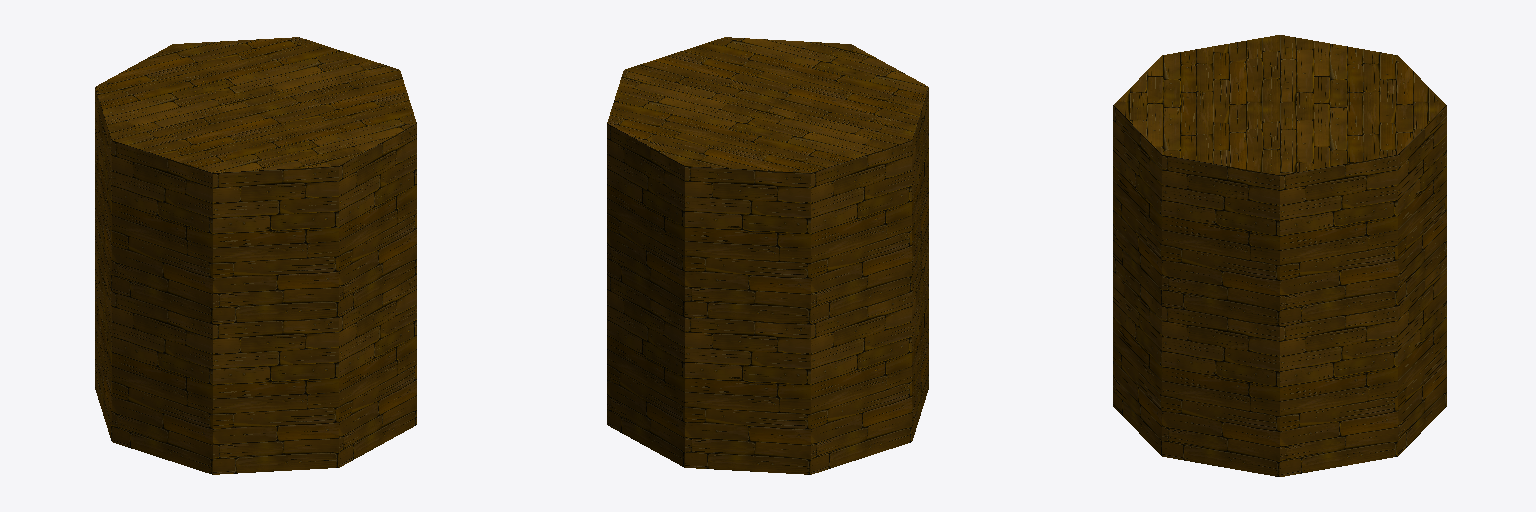
3 views of the same model, side by side, from view 1: azimuth 30°, elevation 25°; view 2: azimuth 150°, elevation 25°; view 3: azimuth 270°, elevation 25° (orthographic).
Visible parts, largest first — view 1: Floor (2); view 2: Floor (2); view 3: Floor (2).
Boxes of the visible parts, x1,y1,x2,y2 form: Floor (2): [95, 37, 416, 474]; Floor (2): [607, 37, 928, 474]; Floor (2): [1113, 35, 1446, 476].
Size of the model in its own units: 2 by 2 by 2.
1 materials, 1 textured.